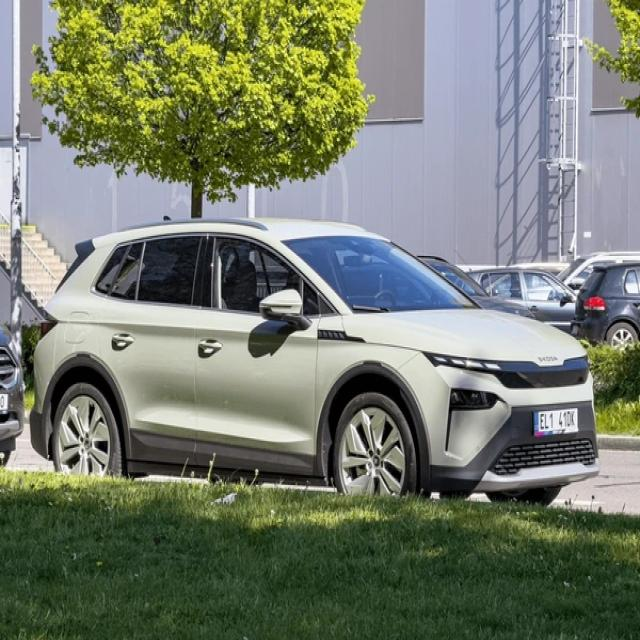skoda: (533, 350, 563, 366)
